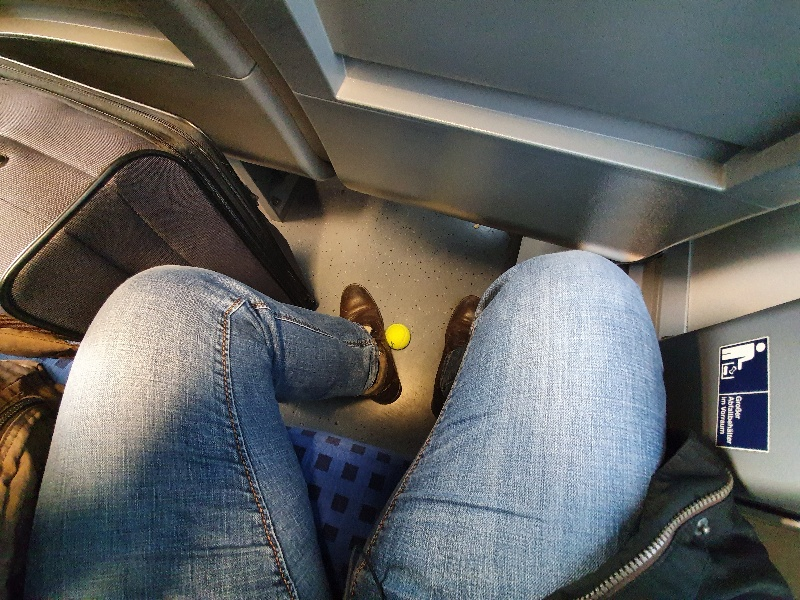Tennisball: (382, 318, 415, 354)
